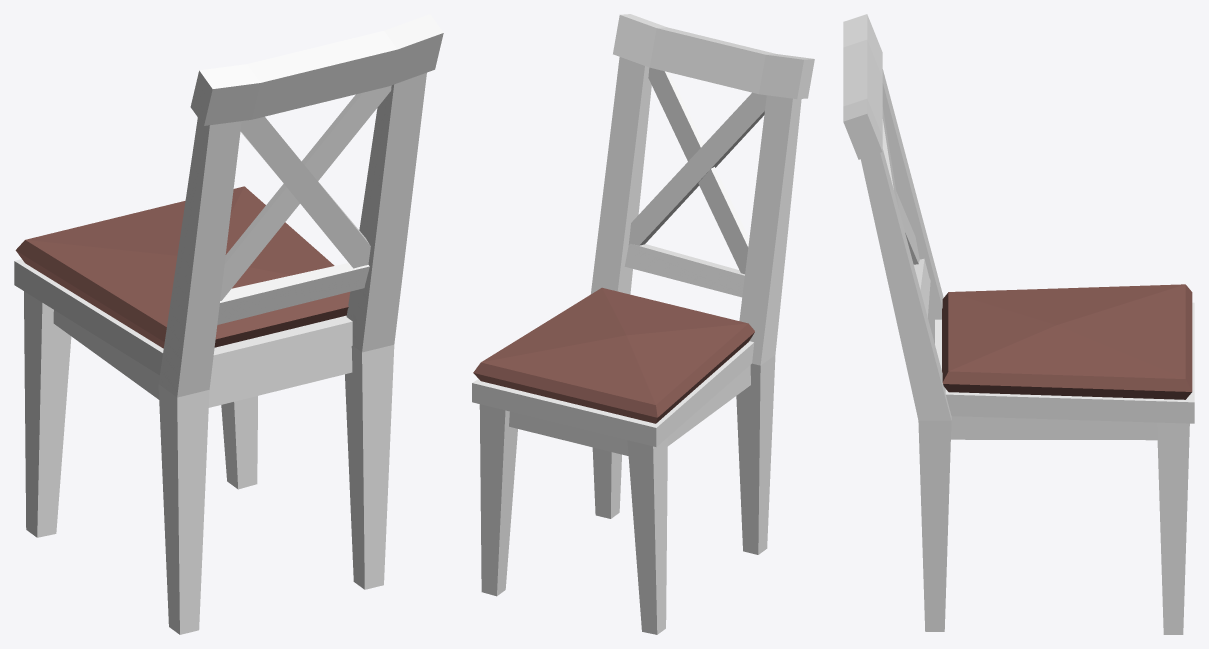
File: Chair_1A.fbx
3 renders of one model, left to right at view 1: azimuth 30°, elevation 25°; view 2: azimuth 150°, elevation 25°; view 3: azimuth 270°, elevation 25°, orthographic. The views are drawn at different scales.
Parts seen in each view (by area): view 1: polySurface2116; view 2: polySurface2116; view 3: polySurface2116.
Part boxes in pixels (x1,y1,x2,y2): polySurface2116: (14,14,443,634); polySurface2116: (472,14,814,634); polySurface2116: (843,14,1194,634).
Size of the model in its own units: 0.5004 by 1.22 by 0.7442.
1 material, 1 textured.
